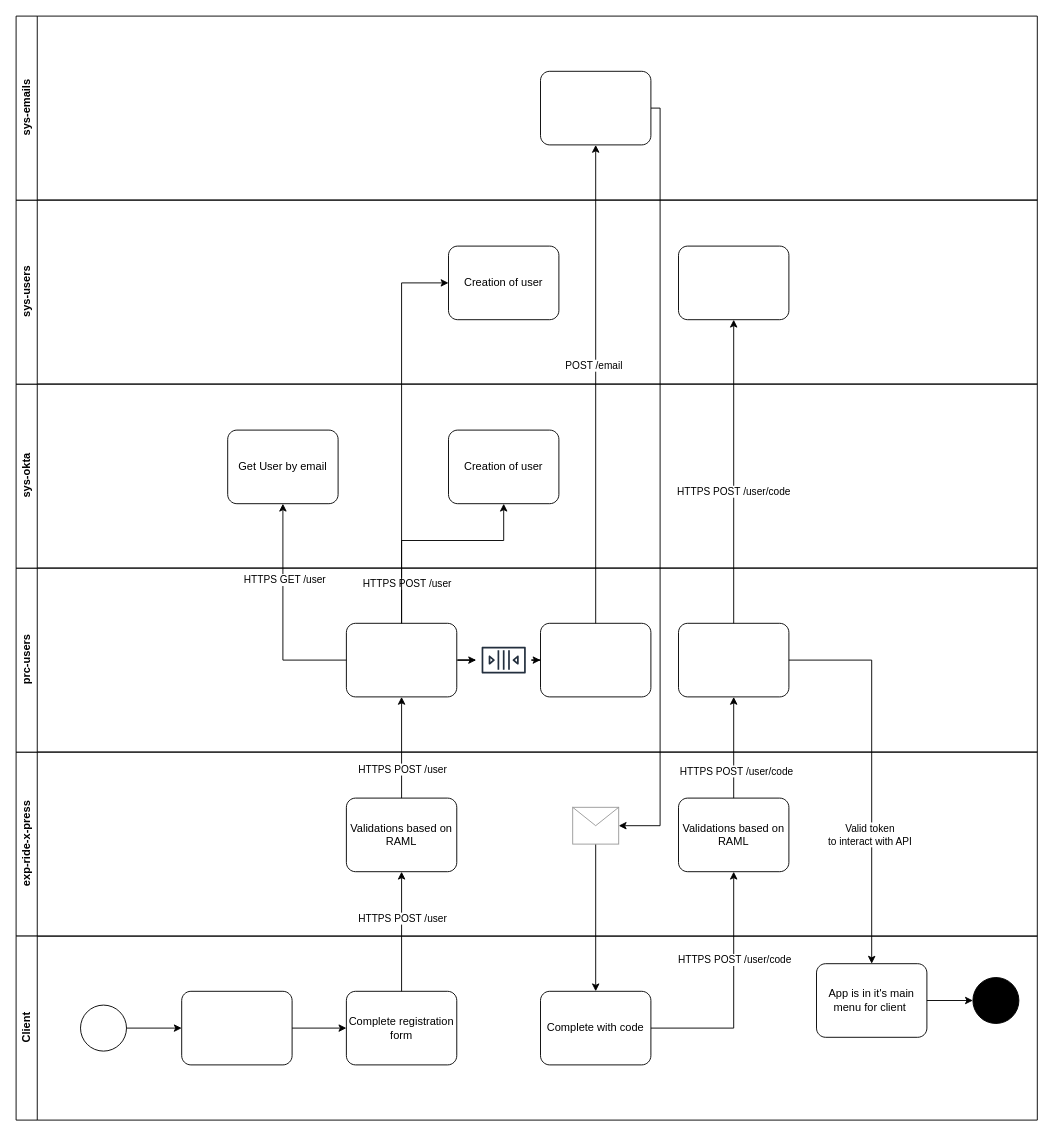
Image size: 1053x1136. Some labels were removed from this diagram. Each missing label, with the centre of its shape:
"Orchestation" belongs at pixel 401 659.
"Queue" belongs at pixel 503 660.
"Send email" belongs at pixel 595 107.
"Send Email with validation code" belongs at pixel 595 659.
"Starts app" belongs at pixel 236 1027.
"Validate user" belongs at pixel 733 282.
"Verify user" belongs at pixel 733 659.
